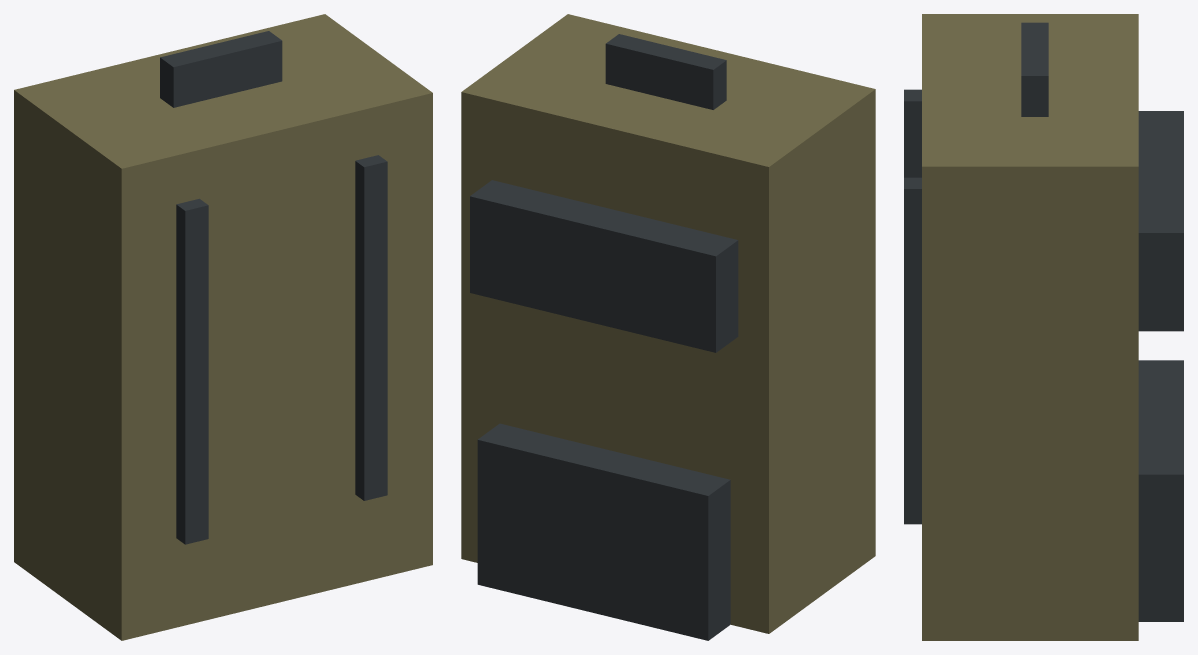
Rendered from hiking_backpack.glb.
3 views of the same model, side by side, from view 1: azimuth 30°, elevation 25°; view 2: azimuth 150°, elevation 25°; view 3: azimuth 270°, elevation 25° (orthographic).
Parts seen in each view (by area): view 1: hiking_backpack:bag; view 2: hiking_backpack:bag; view 3: hiking_backpack:bag.
Boxes of the visible parts, box(x1,y1,x2,y2) form: hiking_backpack:bag: box(14, 14, 432, 640); hiking_backpack:bag: box(461, 14, 875, 640); hiking_backpack:bag: box(904, 14, 1183, 640).
Size of the model in its own units: 0.4 by 0.63 by 0.31.
